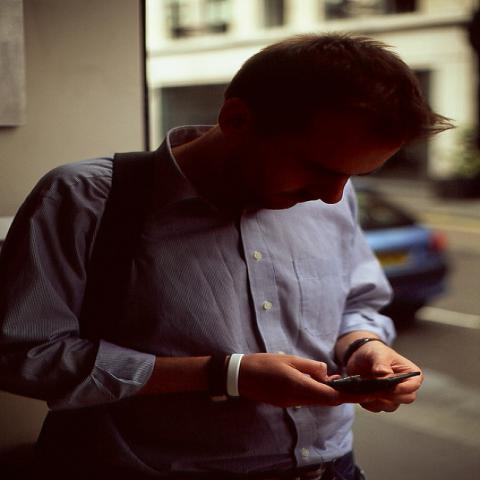car: (358, 184, 461, 326)
